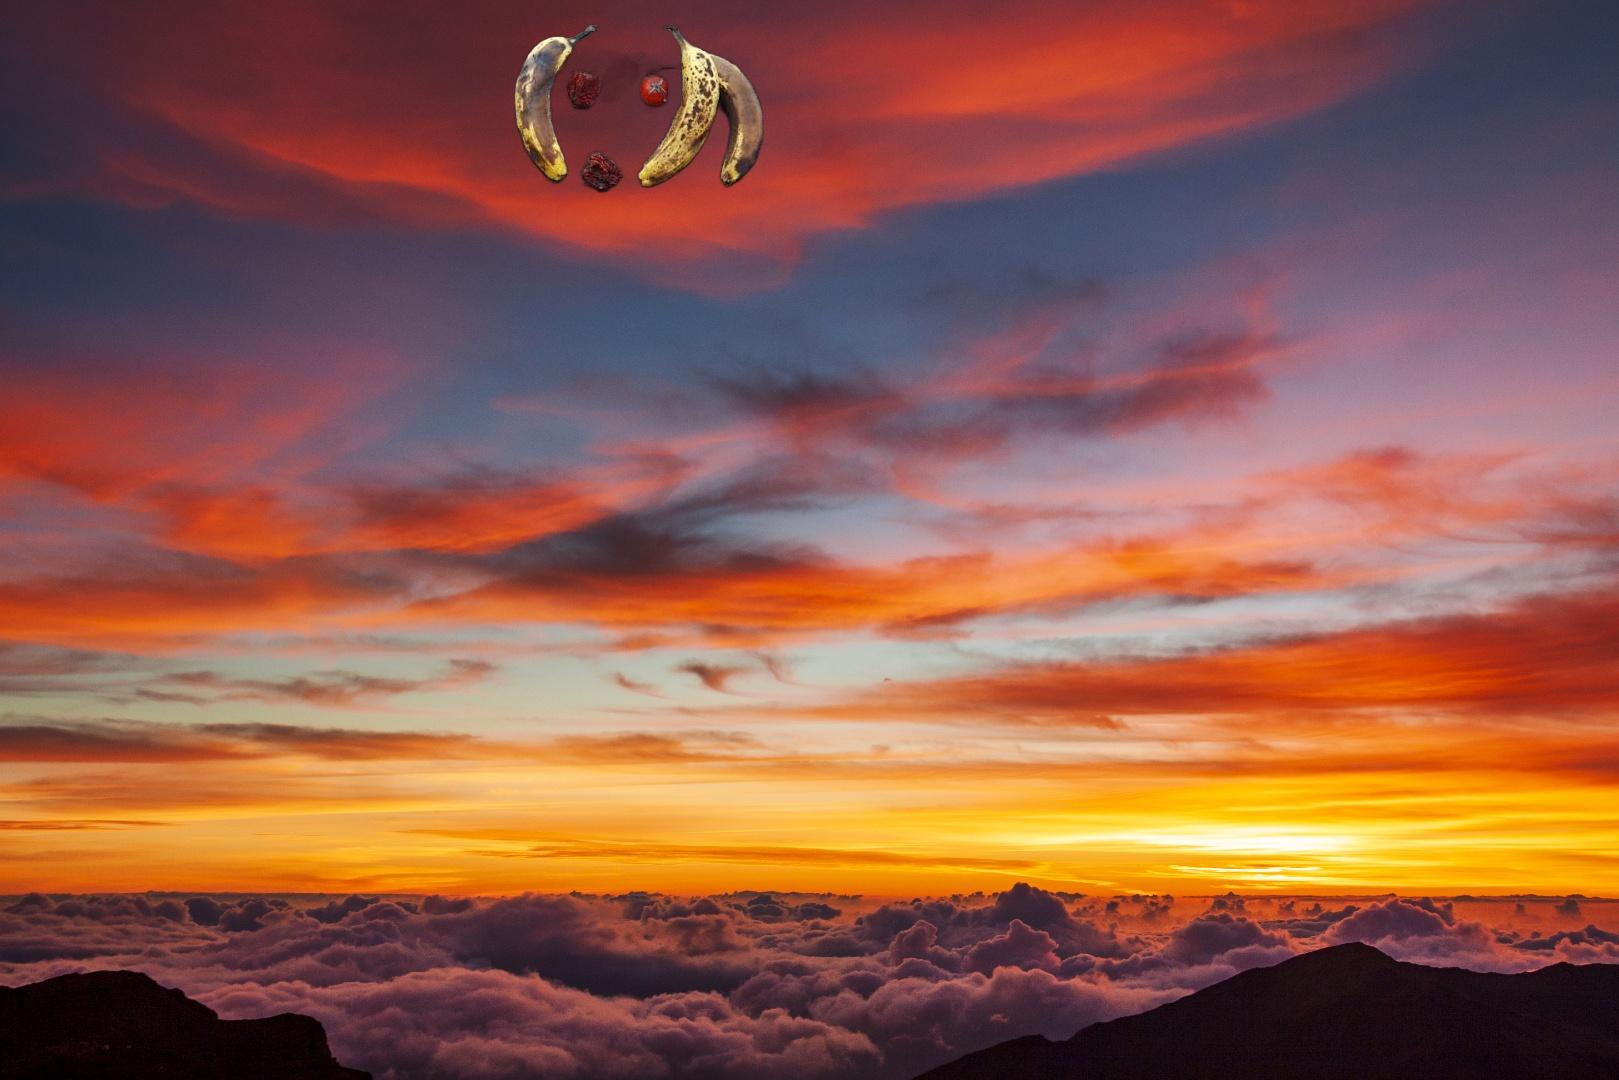biological: (511, 20, 767, 195)
